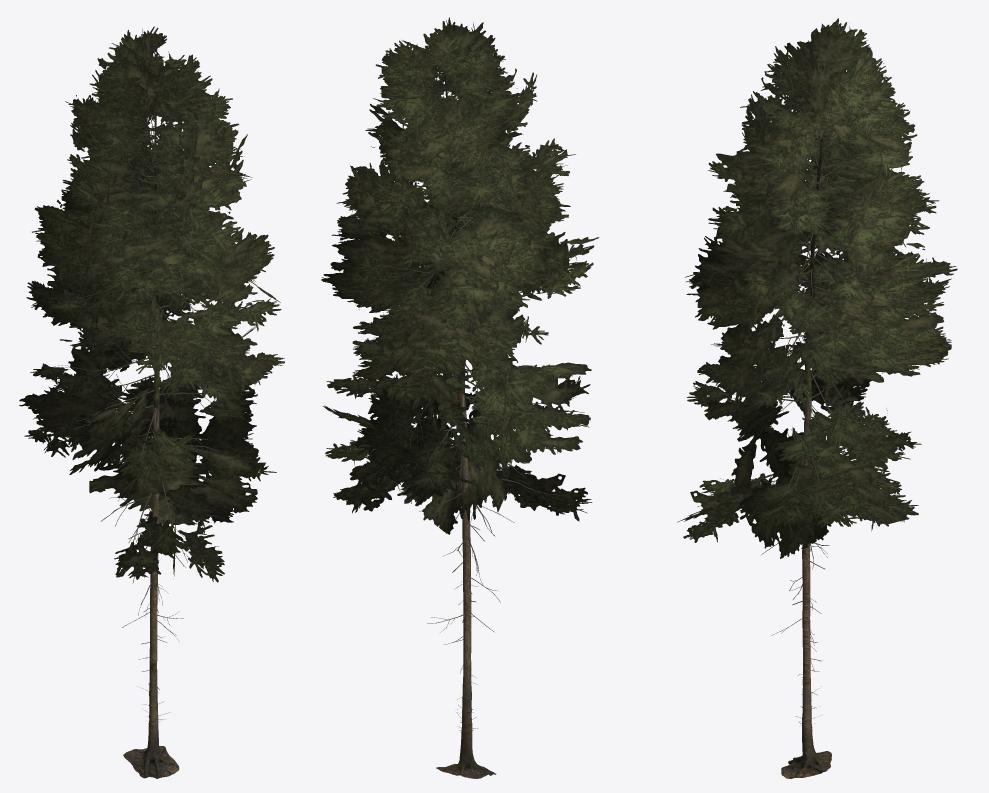
The model's file is tree.gltf.
3 views of the same model, side by side, from view 1: azimuth 30°, elevation 25°; view 2: azimuth 150°, elevation 25°; view 3: azimuth 270°, elevation 25° (orthographic). The views are drawn at different scales.
Parts seen in each view (by area): view 1: fir_a, fir_a_far; view 2: fir_a, fir_a_far; view 3: fir_a, fir_a_far.
Boxes of the visible parts, x1,y1,x2,y2 form: fir_a: (24,26,284,778); fir_a_far: (19,29,280,576); fir_a: (321,20,594,778); fir_a_far: (323,17,599,534); fir_a: (683,18,957,778); fir_a_far: (677,25,951,558).
Bounding box in the file's own units: 6.83 × 19.22 × 7.42.
4 materials, 4 textured.
